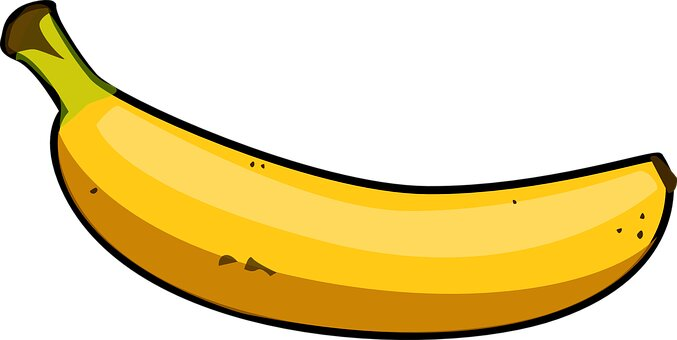banana: (1, 1, 677, 340)
